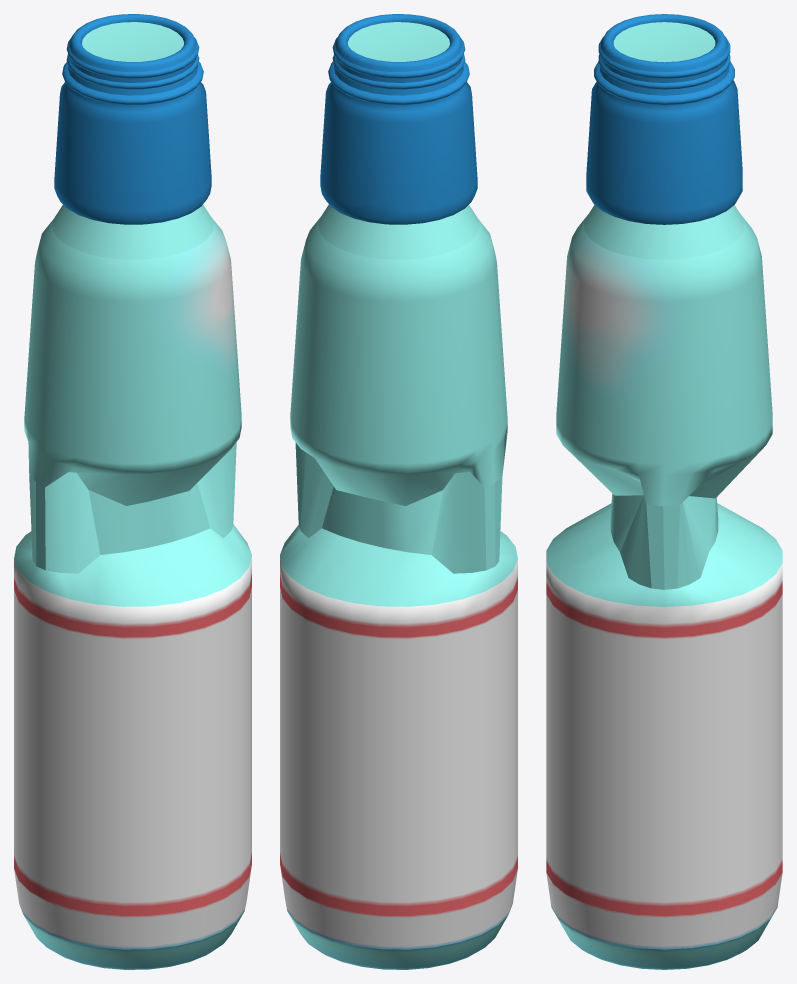
File: itemramn.fbx
3 renders of one model, left to right at view 1: azimuth 30°, elevation 25°; view 2: azimuth 150°, elevation 25°; view 3: azimuth 270°, elevation 25°, orthographic.
Visible parts, largest first — view 1: pCylinder14; view 2: pCylinder14; view 3: pCylinder14.
Part boxes in pixels (<box>): pCylinder14: <box>14,14,251,969</box>; pCylinder14: <box>280,14,517,969</box>; pCylinder14: <box>546,14,782,969</box>.
Bounding box in the file's own units: 1.99 × 8.21 × 1.97.
Materials: 1 (1 with a texture image).
